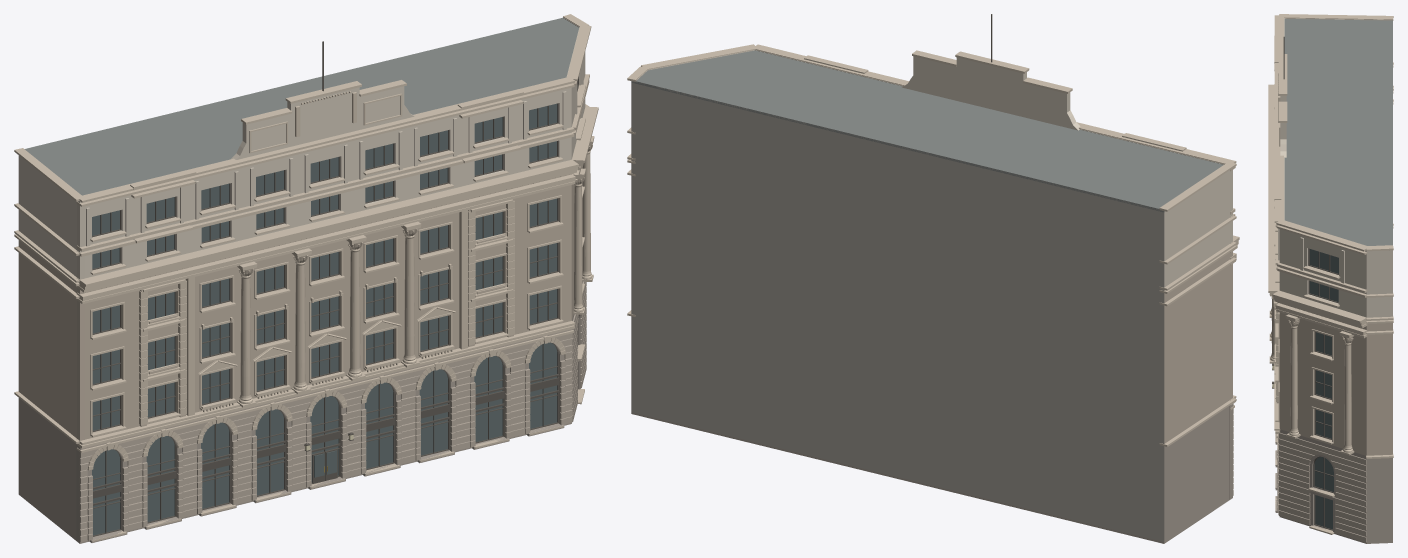
Rendered from huangpu-jardine-matheson-building-raw.glb.
3 renders of one model, left to right at view 1: azimuth 30°, elevation 25°; view 2: azimuth 150°, elevation 25°; view 3: azimuth 270°, elevation 25°, orthographic. The views are drawn at different scales.
Parts seen in each view (by area): view 1: 怡和洋行大楼临江立面与北京东路转角; view 2: 怡和洋行大楼临江立面与北京东路转角; view 3: 怡和洋行大楼临江立面与北京东路转角.
Part boxes in pixels (box(x1,y1,x2,y2)): 怡和洋行大楼临江立面与北京东路转角: box(14, 14, 598, 543); 怡和洋行大楼临江立面与北京东路转角: box(627, 14, 1239, 543); 怡和洋行大楼临江立面与北京东路转角: box(1268, 14, 1393, 543).
Size of the model in its own units: 54.71 by 40.44 by 12.18.
